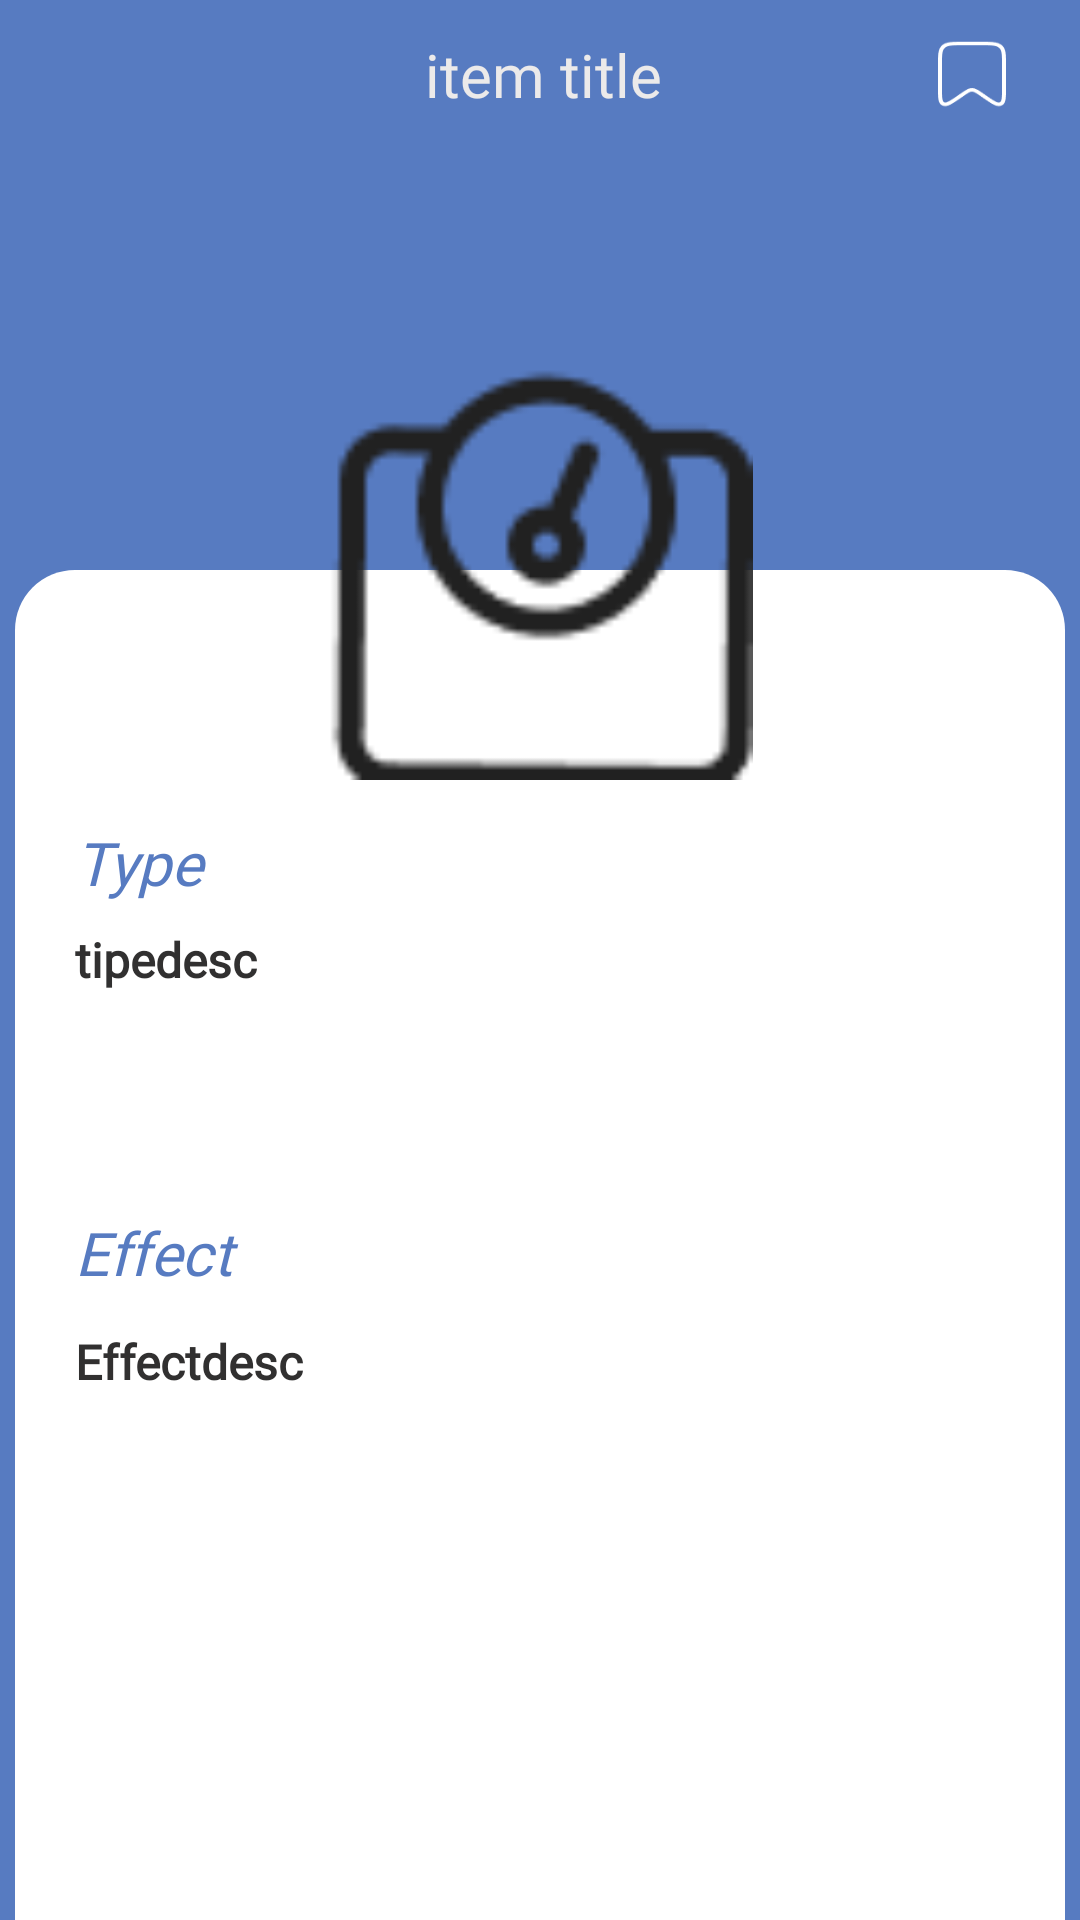

Screen size 1080px x 1920px. Icon name, then its box in pixels as region(x1, y1, x2, y2):
bookmark: region(938, 41, 1006, 107)
